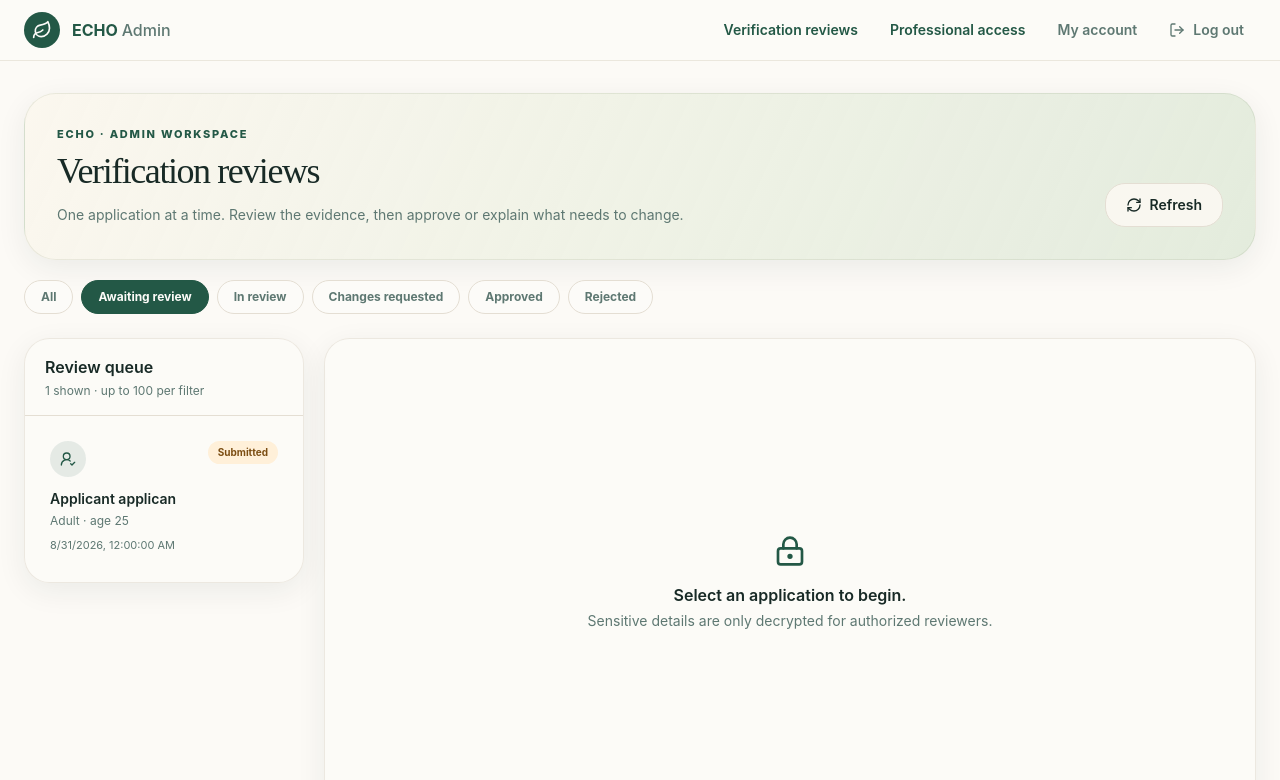
Test case: Admin verification workspace › automatically rescans quarantined evidence before opening a selected application
Click the button "Applicant applican": (164, 497) [33,424,295,570]
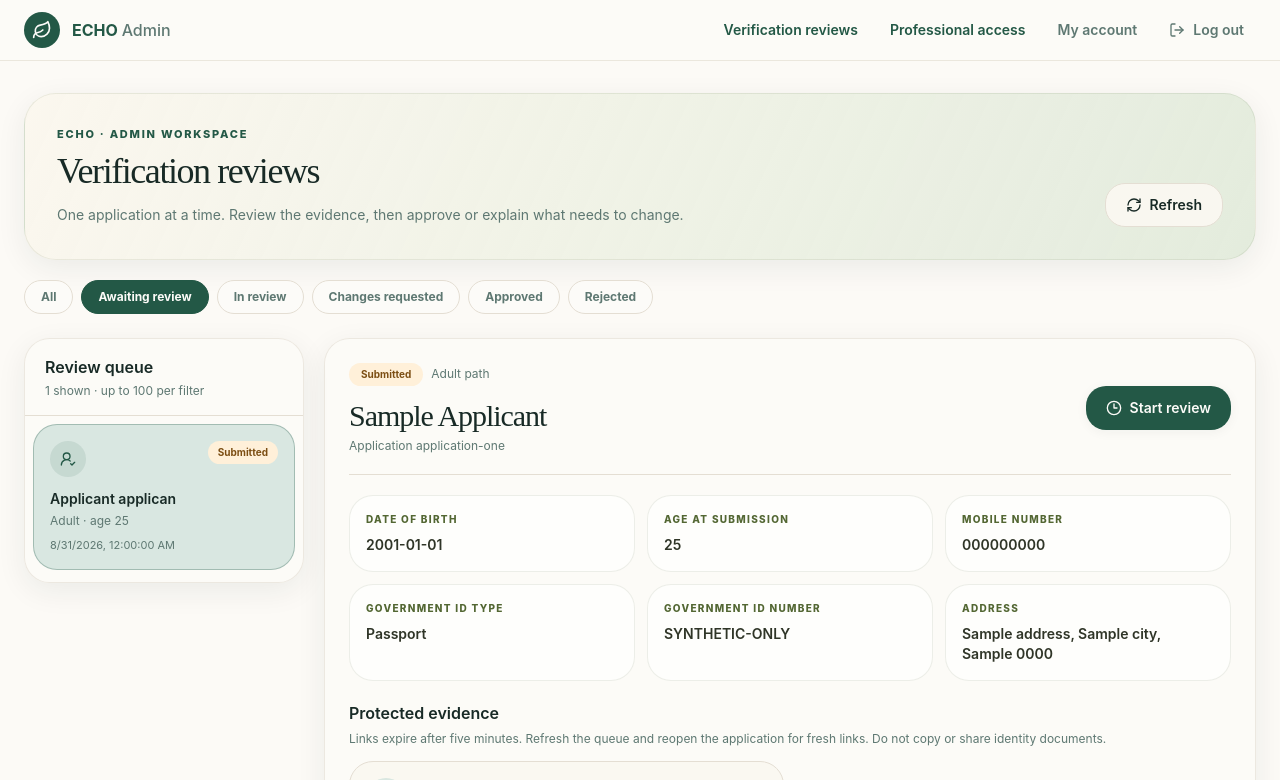
Result: the heading "Sample Applicant" is shown at [349,398,546,434]
